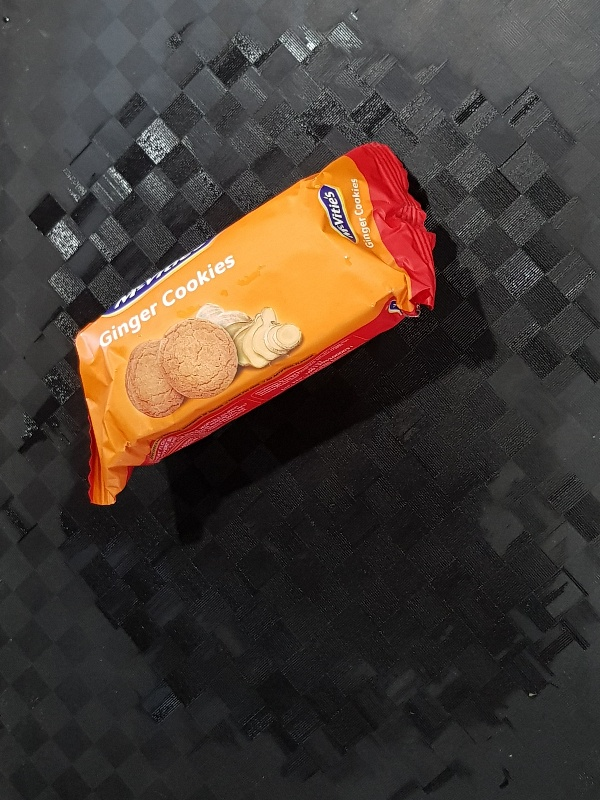McVitie's Ginger Cookies: (74, 141, 434, 507)
